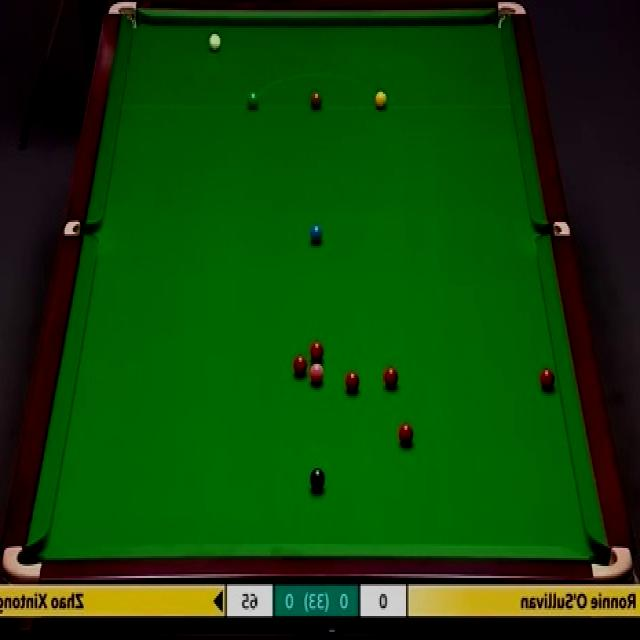black-ball: (310, 466, 326, 491)
blue-ball: (311, 223, 324, 244)
brown-ball: (310, 91, 322, 108)
green-ball: (246, 90, 260, 109)
pink-ball: (309, 361, 324, 383)
red-ball: (399, 420, 414, 448), (346, 370, 360, 395), (383, 367, 399, 388), (540, 367, 554, 391), (293, 354, 307, 376), (310, 341, 323, 360)
white-ball: (208, 34, 222, 48)
yellow-ball: (374, 90, 390, 110)
